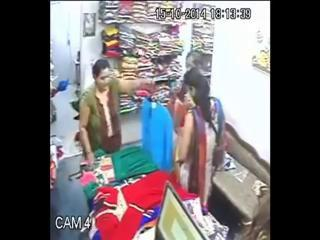Normal: (78, 58, 136, 166)
